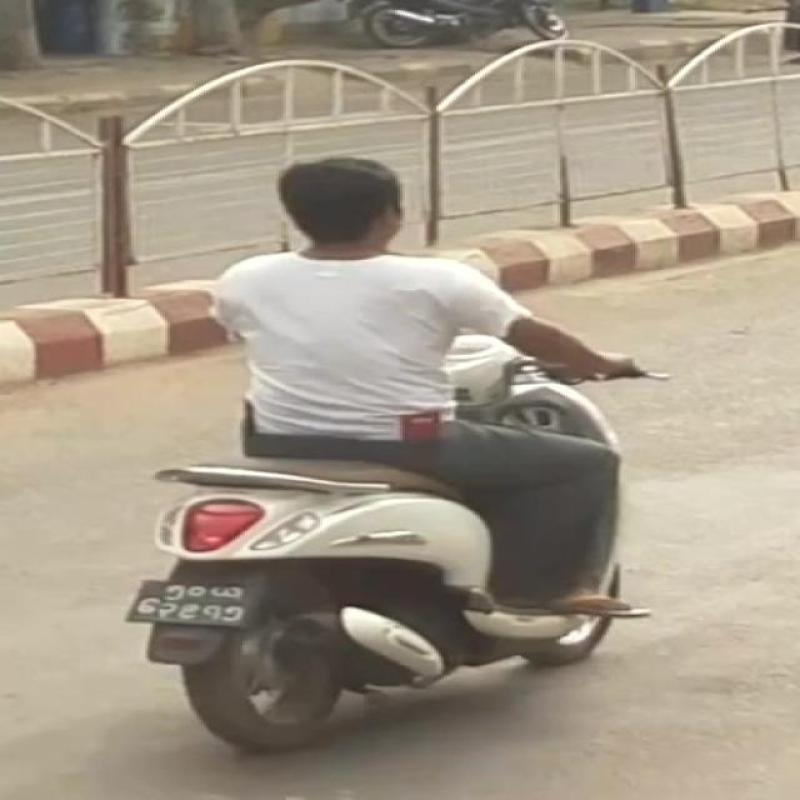nohelmet: (289, 130, 440, 261)
